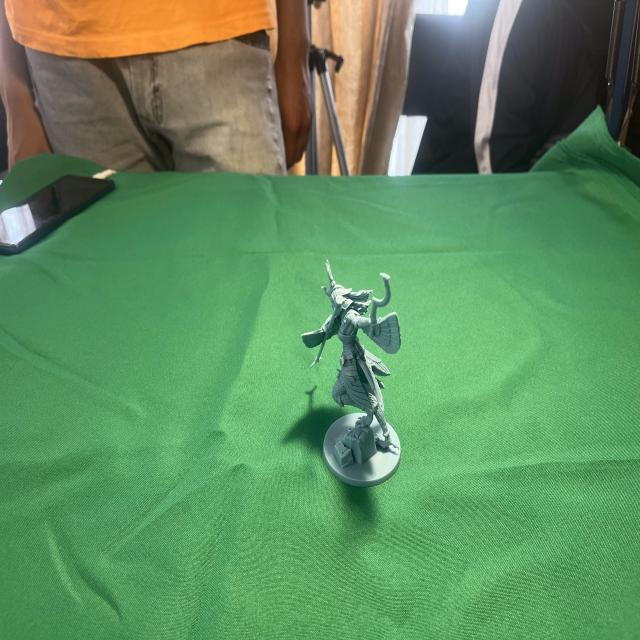isis: (300, 251, 413, 506)
